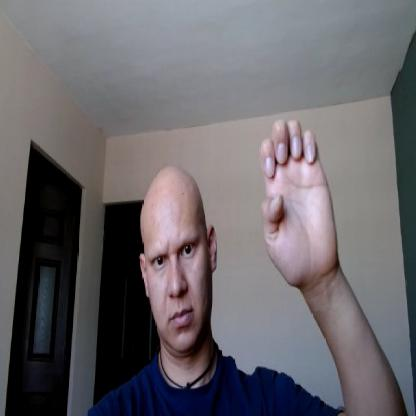E: (260, 118, 338, 282)
